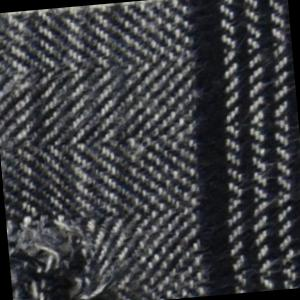Damage: (6, 201, 140, 300)
